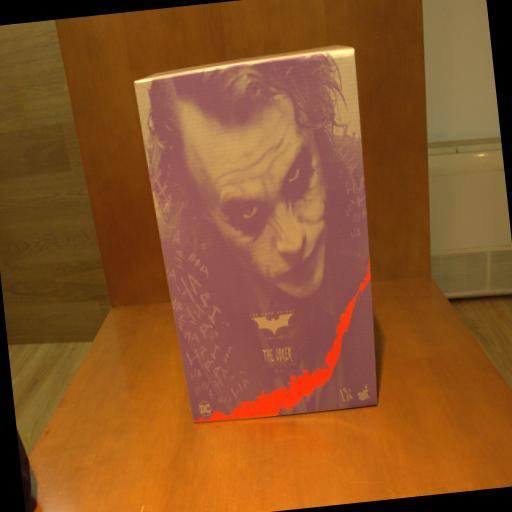Joker: (133, 41, 393, 435)
